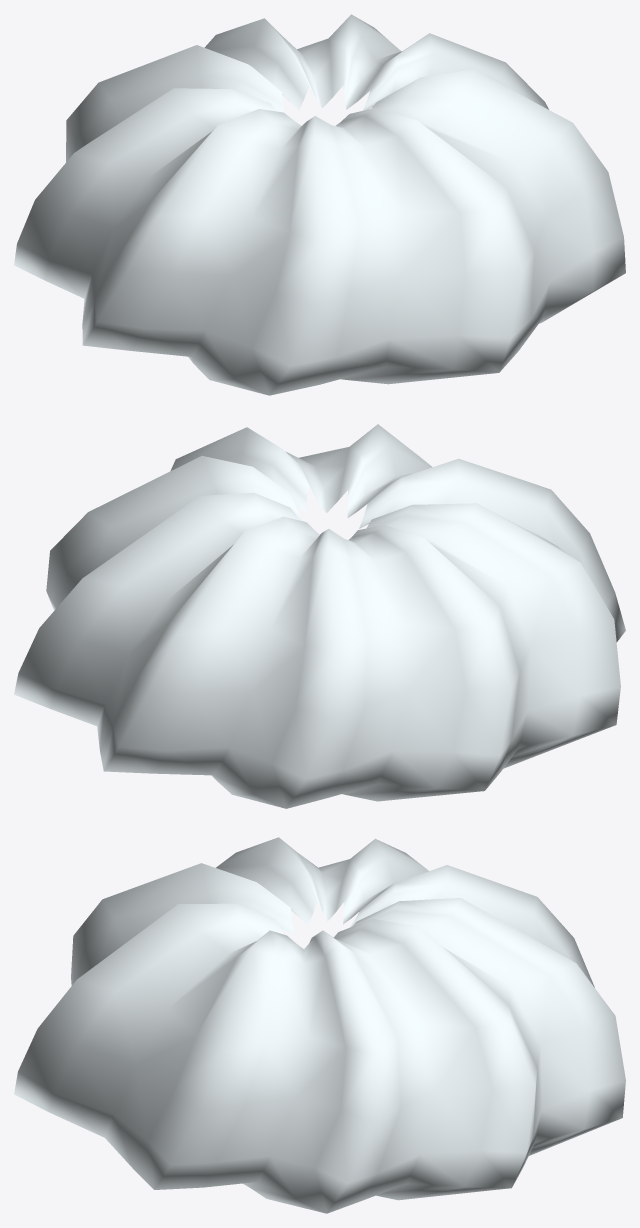
File: whip.glb
The picture shows the model from 3 angles, top to bottom: view 1: azimuth 30°, elevation 25°; view 2: azimuth 150°, elevation 25°; view 3: azimuth 270°, elevation 25°; orthographic projection.
Visible parts, largest first — view 1: pCylinder6; view 2: pCylinder6; view 3: pCylinder6.
Part boxes in pixels (box(x1,y1,x2,y2)): pCylinder6: box(14, 14, 625, 395); pCylinder6: box(14, 424, 625, 808); pCylinder6: box(14, 837, 625, 1213).
Size of the model in its own units: 0.2915 by 0.119 by 0.2928.
Materials: 1 (1 with a texture image).
